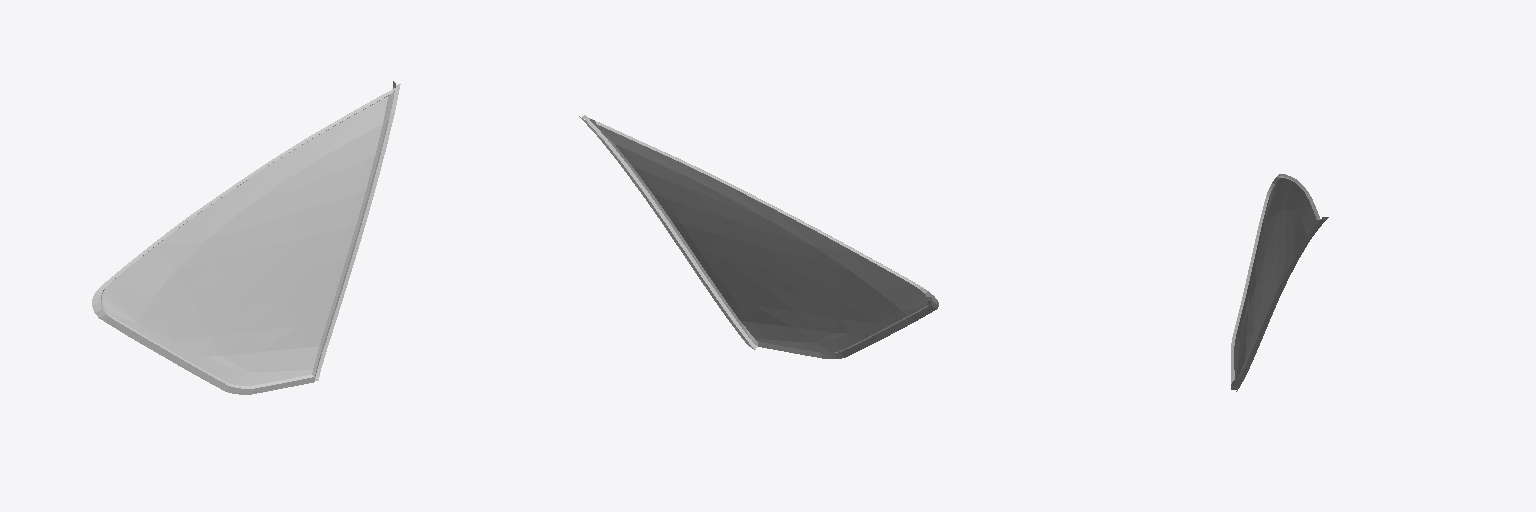
3 renders of one model, left to right at view 1: azimuth 30°, elevation 25°; view 2: azimuth 150°, elevation 25°; view 3: azimuth 270°, elevation 25°, orthographic.
Visible parts, largest first — view 1: Y191_13_40SG_R_Y191_13_40SG_R_1_DTaSI, Y191_13_40SG_R_Y191_13_40SG_R_2_DTaSI, Y191_13_40SG_R_3_D_Y191_13_40SG_R; view 2: Y191_13_40SG_R_Y191_13_40SG_R_1_DTaSI, Y191_13_40SG_R_Y191_13_40SG_R_2_DTaSI, Y191_13_40SG_R_3_D_Y191_13_40SG_R; view 3: Y191_13_40SG_R_Y191_13_40SG_R_1_DTaSI, Y191_13_40SG_R_3_D_Y191_13_40SG_R, Y191_13_40SG_R_Y191_13_40SG_R_2_DTaSI.
Boxes of the visible parts, x1=… form: Y191_13_40SG_R_Y191_13_40SG_R_1_DTaSI: x1=138, y1=129, x2=372, y2=371; Y191_13_40SG_R_Y191_13_40SG_R_2_DTaSI: x1=102, y1=96, x2=387, y2=385; Y191_13_40SG_R_3_D_Y191_13_40SG_R: x1=92, y1=81, x2=400, y2=394; Y191_13_40SG_R_Y191_13_40SG_R_1_DTaSI: x1=626, y1=149, x2=901, y2=342; Y191_13_40SG_R_Y191_13_40SG_R_2_DTaSI: x1=598, y1=125, x2=927, y2=352; Y191_13_40SG_R_3_D_Y191_13_40SG_R: x1=579, y1=115, x2=938, y2=358; Y191_13_40SG_R_Y191_13_40SG_R_1_DTaSI: x1=1238, y1=209, x2=1305, y2=368; Y191_13_40SG_R_3_D_Y191_13_40SG_R: x1=1231, y1=174, x2=1328, y2=391; Y191_13_40SG_R_Y191_13_40SG_R_2_DTaSI: x1=1234, y1=178, x2=1316, y2=377.
Size of the model in its own units: 47.82 by 32.24 by 12.27.